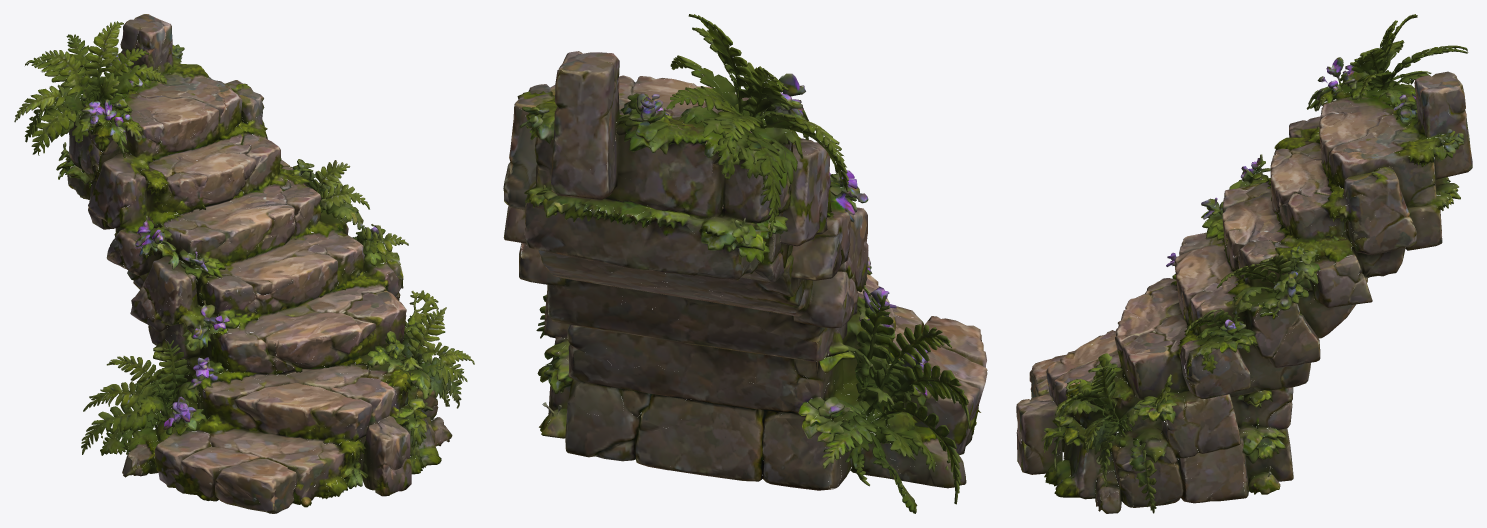
Rendered from stairs.glb.
3 renders of one model, left to right at view 1: azimuth 30°, elevation 25°; view 2: azimuth 150°, elevation 25°; view 3: azimuth 270°, elevation 25°, orthographic. The views are drawn at different scales.
Visible parts, largest first — view 1: tripo_node_0d485d45-f5d2-4155-aa37-bab61d470950; view 2: tripo_node_0d485d45-f5d2-4155-aa37-bab61d470950; view 3: tripo_node_0d485d45-f5d2-4155-aa37-bab61d470950.
Part boxes in pixels (x1,y1,x2,y2): tripo_node_0d485d45-f5d2-4155-aa37-bab61d470950: [14, 14, 474, 513]; tripo_node_0d485d45-f5d2-4155-aa37-bab61d470950: [503, 14, 987, 513]; tripo_node_0d485d45-f5d2-4155-aa37-bab61d470950: [1016, 14, 1472, 513].
Bounding box in the file's own units: 2.82 × 3 × 3.18.
1 material, 1 textured.
